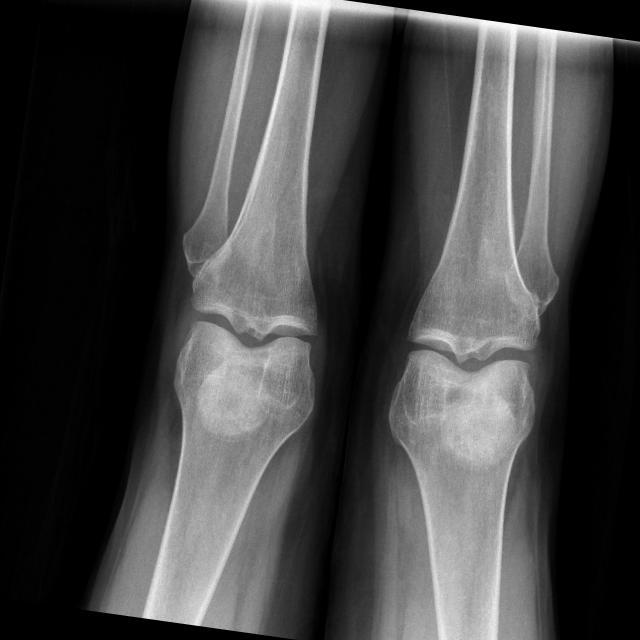Knee: (172, 250, 338, 422), (388, 279, 555, 446)
